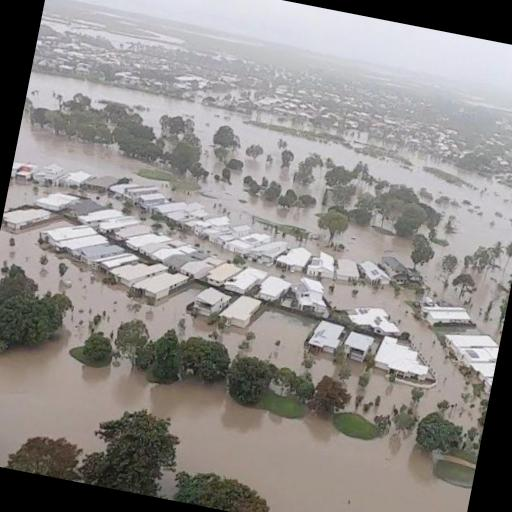flood: (0, 219, 471, 512), (14, 72, 413, 268), (285, 137, 512, 303), (323, 281, 482, 430), (243, 307, 318, 373), (467, 275, 503, 342), (4, 183, 50, 211), (309, 355, 338, 383), (222, 328, 245, 359), (490, 255, 506, 279), (506, 260, 512, 280)
house: (42, 218, 152, 274), (438, 324, 502, 382), (123, 260, 192, 312), (207, 216, 275, 262), (375, 340, 441, 386), (415, 295, 478, 336), (128, 228, 192, 268), (340, 300, 404, 338), (148, 195, 208, 232), (302, 314, 349, 360), (288, 272, 336, 315), (377, 248, 425, 288), (108, 179, 164, 212), (219, 288, 264, 328), (1, 200, 51, 236), (189, 282, 232, 323), (37, 163, 92, 193), (224, 262, 264, 299), (275, 240, 318, 274), (182, 250, 225, 282), (256, 272, 294, 308), (35, 188, 80, 218), (344, 328, 378, 364), (448, 266, 482, 302), (206, 258, 240, 292), (356, 258, 388, 288), (10, 159, 38, 184)
